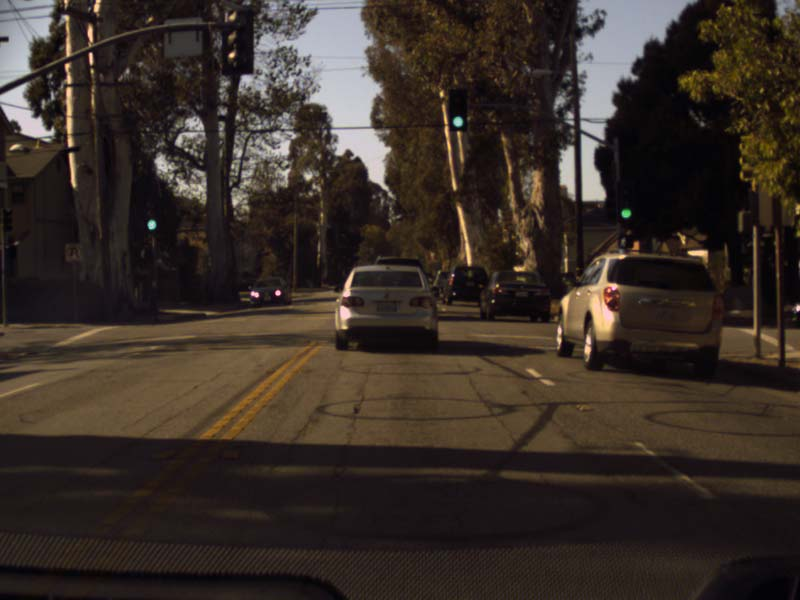Green: (447, 90, 467, 128), (617, 185, 632, 223), (146, 198, 158, 229)
